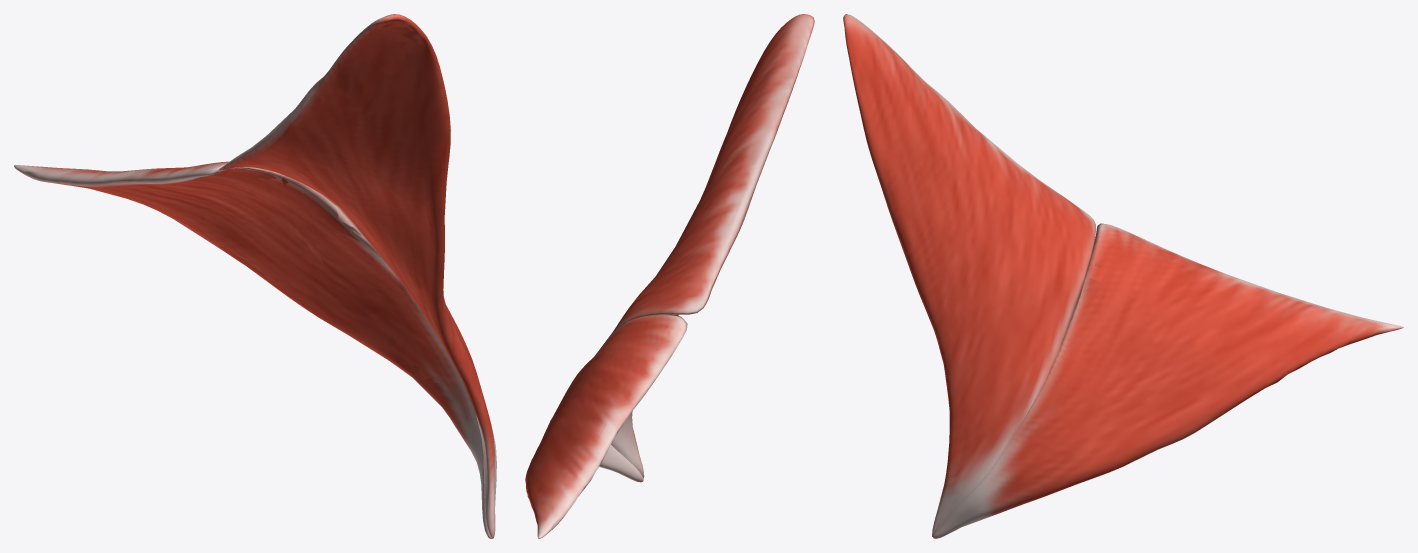
File: L Trapezius.fbx
The picture shows the model from 3 angles, left to right: view 1: azimuth 30°, elevation 25°; view 2: azimuth 150°, elevation 25°; view 3: azimuth 270°, elevation 25°; orthographic projection. The views are drawn at different scales.
Parts seen in each view (by area): view 1: L Trapezius low, L Trapezius; view 2: L Trapezius, L Trapezius low; view 3: L Trapezius, L Trapezius low.
Boxes of the visible parts, x1,y1,x2,y2 form: L Trapezius low: (18,14,496,535); L Trapezius: (14,14,496,538); L Trapezius: (525,14,814,538); L Trapezius low: (527,15,814,536); L Trapezius: (843,14,1403,538); L Trapezius low: (845,19,1402,534).
Size of the model in its own units: 22.4 by 58.82 by 64.48.
